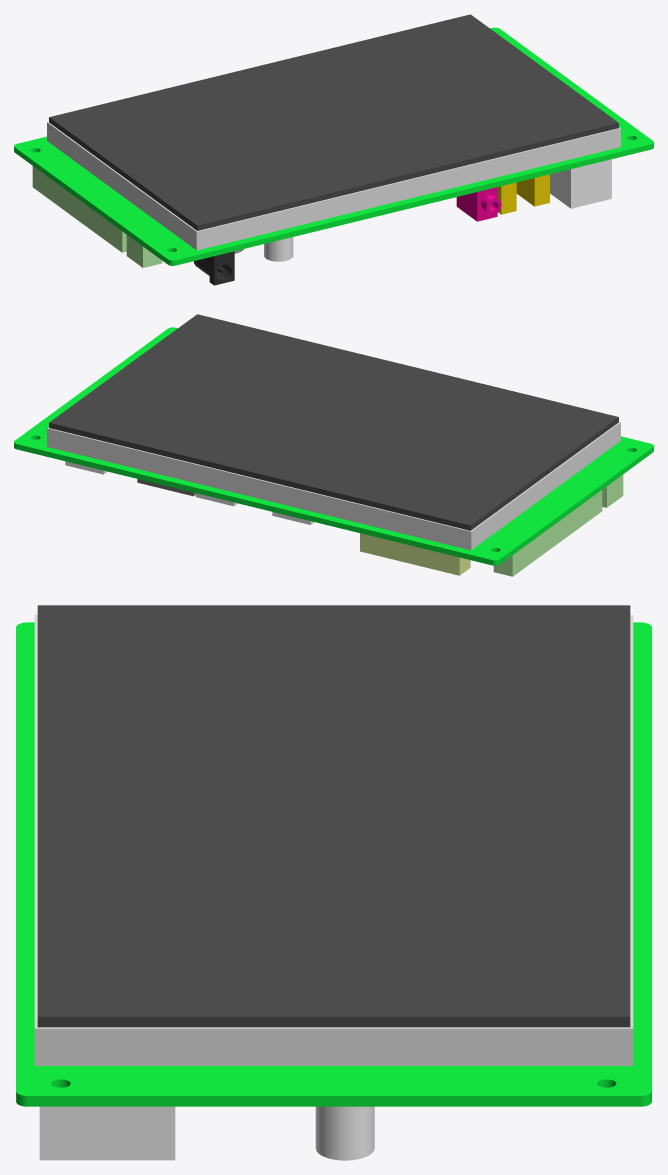
Rendered from EPC-CM4-070.fbx.
The picture shows the model from 3 angles, top to bottom: view 1: azimuth 30°, elevation 25°; view 2: azimuth 150°, elevation 25°; view 3: azimuth 270°, elevation 25°; orthographic projection. The views are drawn at different scales.
Visible parts, largest first — view 1: Part 175, Part 171, Part 172, Part 176, Part 183, Part 179, Part 180, Part 186; view 2: Part 175, Part 171, Part 172, Part 183, Part 173, Part 176; view 3: Part 175, Part 171, Part 172, Part 176.
Part boxes in pixels (left/top/right/bottom): Part 175: left=49, top=14, right=618, bottom=230; Part 171: left=14, top=27, right=653, bottom=265; Part 172: left=47, top=122, right=620, bottom=250; Part 176: left=264, top=159, right=611, bottom=261; Part 183: left=32, top=166, right=162, bottom=267; Part 179: left=497, top=174, right=549, bottom=214; Part 180: left=456, top=187, right=501, bottom=221; Part 186: left=193, top=251, right=234, bottom=285; Part 175: left=49, top=314, right=618, bottom=530; Part 171: left=14, top=327, right=653, bottom=565; Part 172: left=47, top=421, right=620, bottom=550; Part 183: left=493, top=474, right=623, bottom=576; Part 173: left=360, top=533, right=470, bottom=575; Part 176: left=65, top=461, right=314, bottom=524; Part 175: left=37, top=605, right=630, bottom=1027; Part 171: left=16, top=622, right=651, bottom=1106; Part 172: left=34, top=615, right=633, bottom=1065; Part 176: left=39, top=1106, right=374, bottom=1160.
Bounding box in the file's own units: 19 × 2.8 × 10.78.
